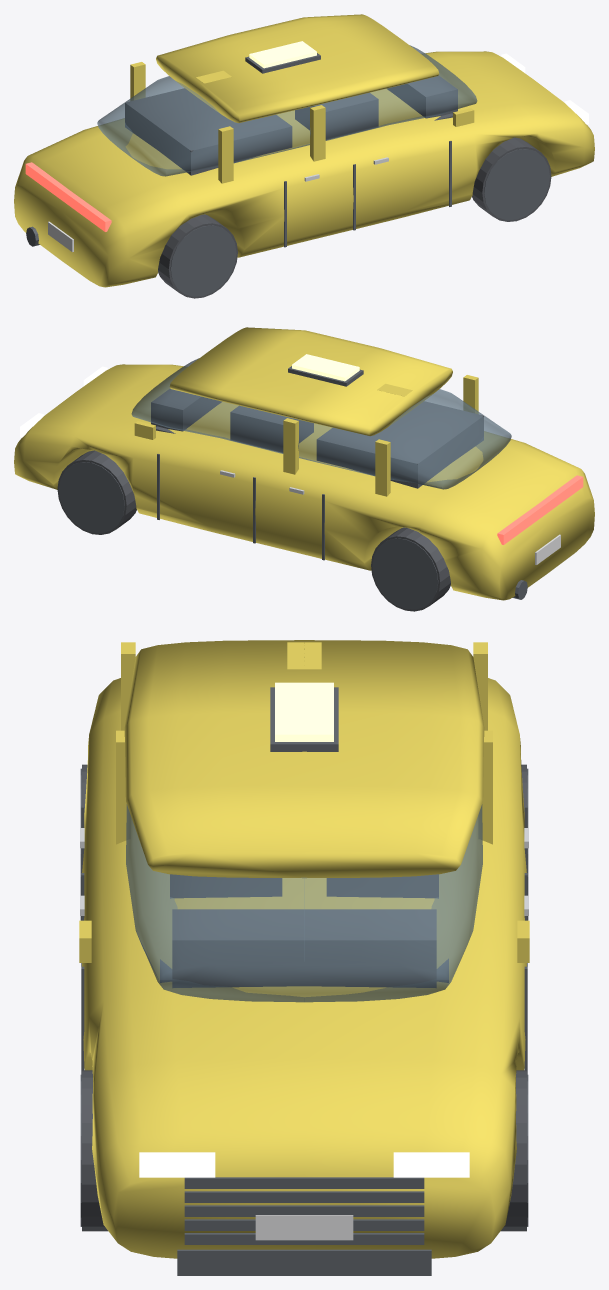
The model's file is taxi.glb.
The picture shows the model from 3 angles, top to bottom: view 1: azimuth 30°, elevation 25°; view 2: azimuth 150°, elevation 25°; view 3: azimuth 270°, elevation 25°; orthographic projection. The views are drawn at different scales.
Visible parts, largest first — view 1: VehicleTaxi; view 2: VehicleTaxi; view 3: VehicleTaxi.
Boxes of the visible parts, <box> form: VehicleTaxi: <box>14,14,594,298</box>; VehicleTaxi: <box>14,327,594,611</box>; VehicleTaxi: <box>79,640,529,1275</box>.
Size of the model in its own units: 0.471 by 0.1567 by 0.187.
